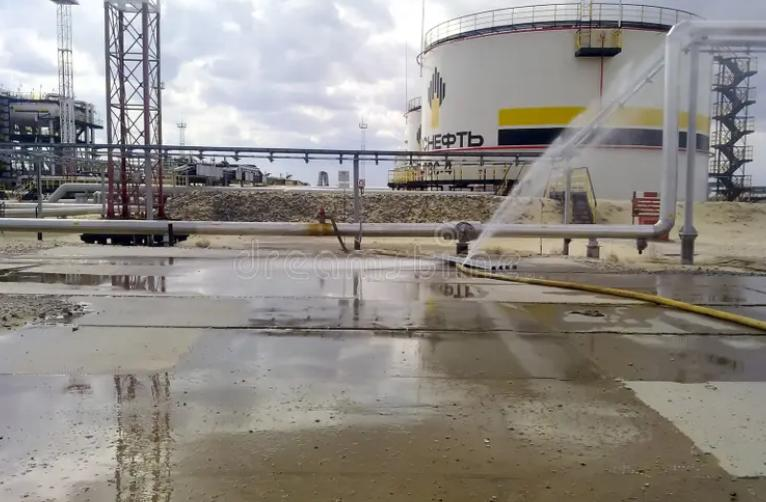pipe burst: (458, 34, 690, 271)
water accumulation: (0, 252, 766, 502)
